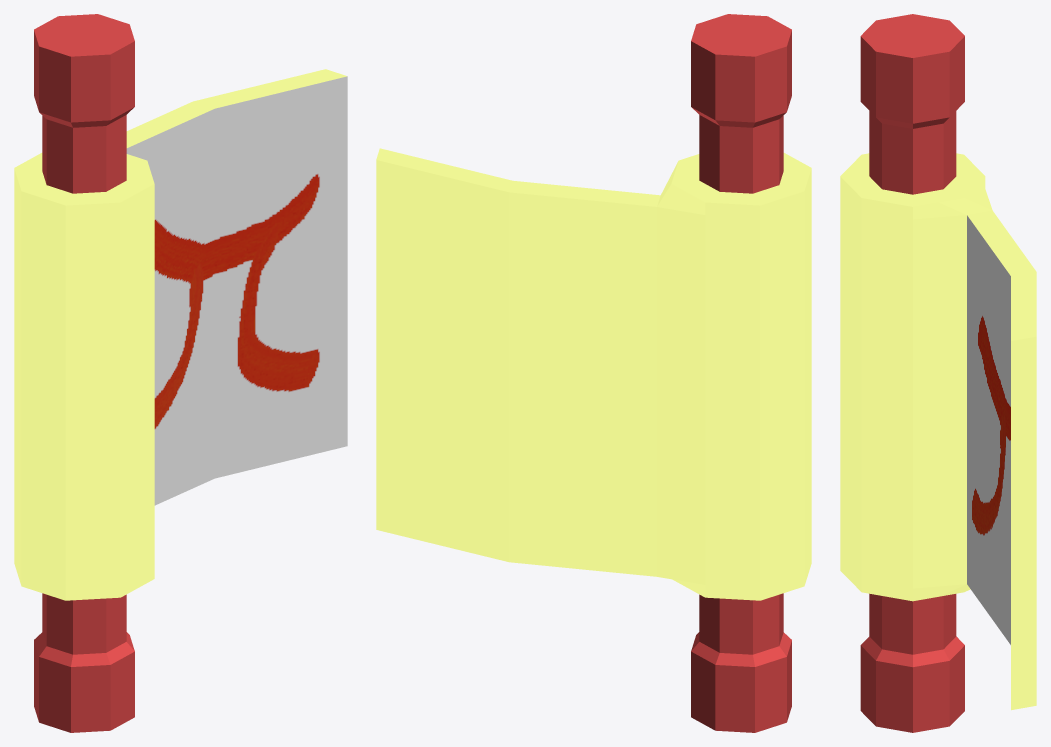
File: scrollLowPerf.glb
3 views of the same model, side by side, from view 1: azimuth 30°, elevation 25°; view 2: azimuth 150°, elevation 25°; view 3: azimuth 270°, elevation 25° (orthographic).
Parts seen in each view (by area): view 1: Circle; view 2: Circle; view 3: Circle.
Part boxes in pixels (bbox=[...]): Circle: bbox=[14, 14, 347, 732]; Circle: bbox=[376, 14, 811, 732]; Circle: bbox=[840, 14, 1036, 732].
Size of the model in its own units: 5.97 by 10.27 by 2.71.
3 materials, 1 textured.
